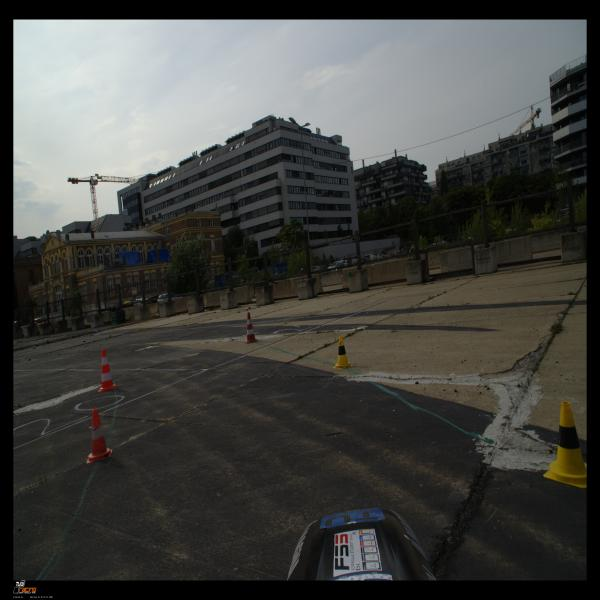large_orange_cone: (98, 349, 117, 392), (244, 312, 259, 344)
orange_cone: (86, 408, 112, 464)
yellow_cone: (543, 401, 587, 489), (333, 336, 353, 370)
